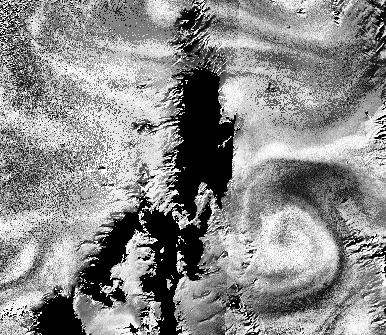CE: (228, 166, 358, 310)
